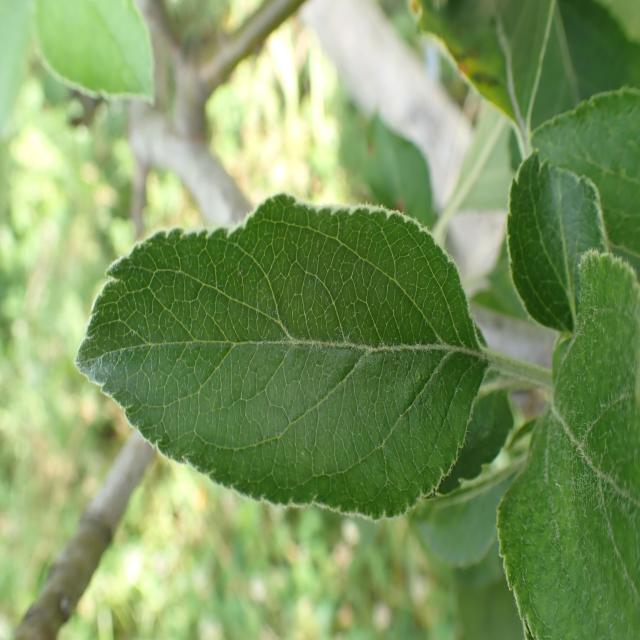healthy: (75, 193, 490, 522), (495, 249, 640, 640), (506, 85, 640, 333), (32, 0, 156, 105)
